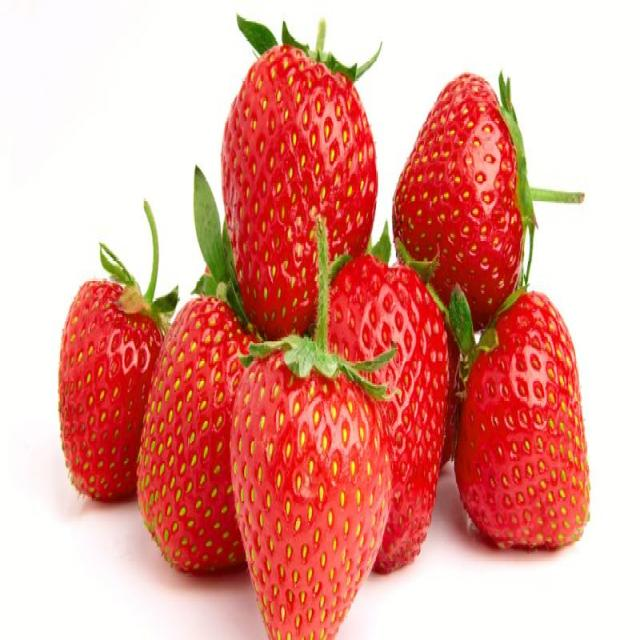strawberry: (230, 269, 392, 640), (214, 16, 376, 336), (321, 238, 450, 576), (134, 284, 267, 584), (454, 300, 602, 566), (401, 85, 558, 320), (51, 248, 168, 508)
